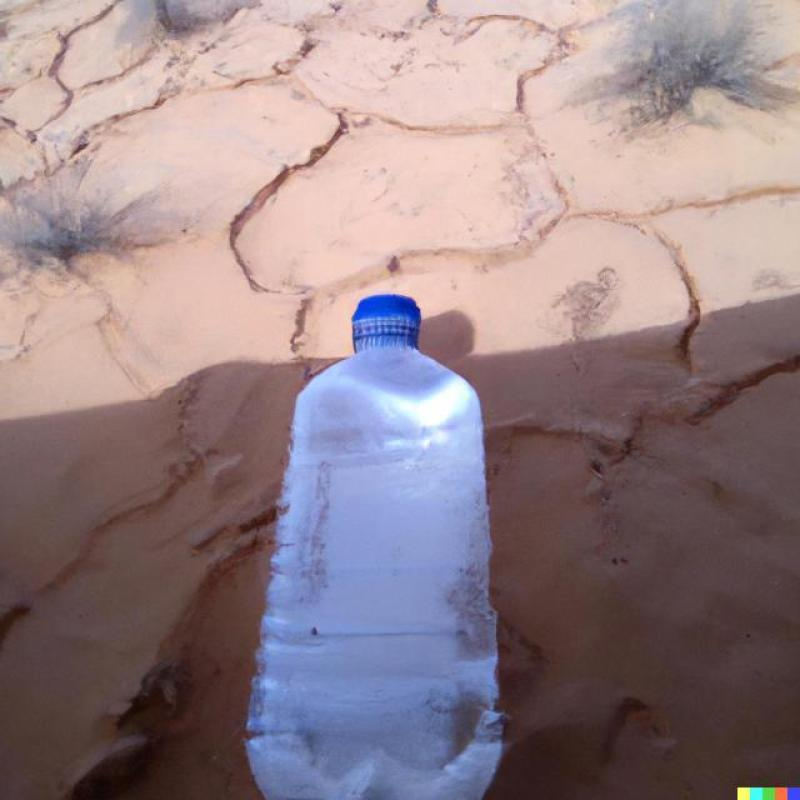botella: (239, 292, 502, 800)
